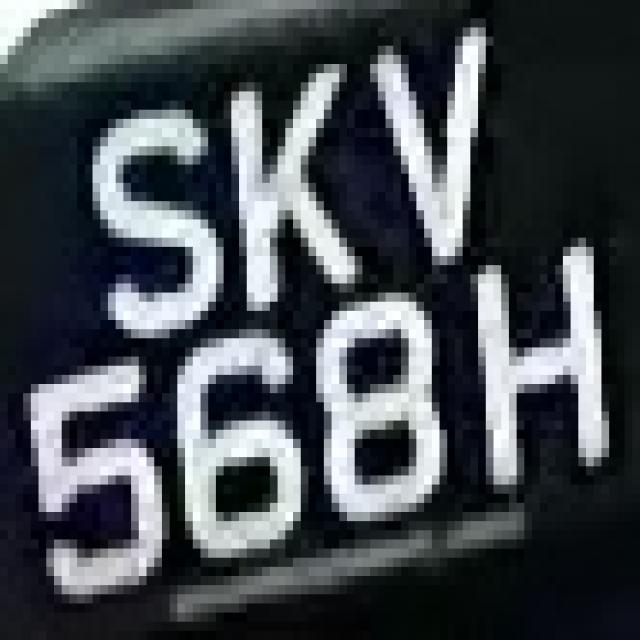5: (15, 375, 193, 622)
6: (154, 329, 324, 567)
8: (316, 265, 463, 540)
H: (455, 265, 632, 512)
K: (193, 37, 370, 320)
S: (69, 82, 216, 348)
V: (347, 28, 532, 265)
